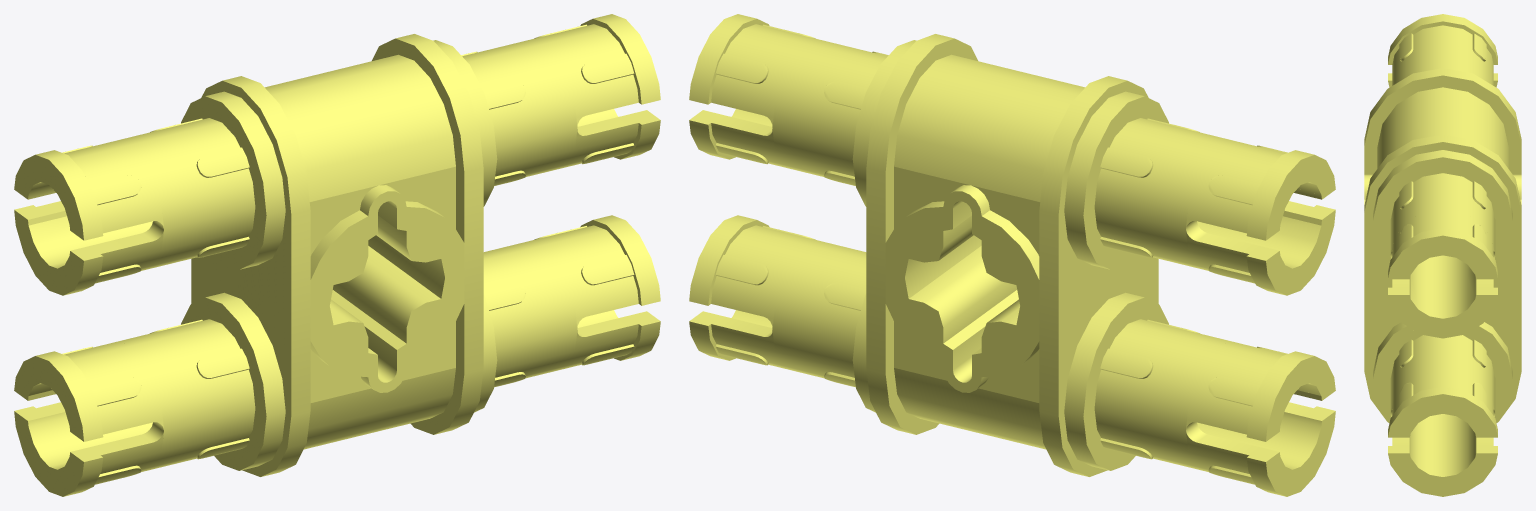
The picture shows the model from 3 angles, left to right: view 1: azimuth 30°, elevation 25°; view 2: azimuth 150°, elevation 25°; view 3: azimuth 270°, elevation 25°; orthographic projection. The views are drawn at different scales.
Visible parts, largest first — view 1: 32138.dat; view 2: 32138.dat; view 3: 32138.dat.
Part boxes in pixels (x1,y1,x2,y2): 32138.dat: [14, 14, 660, 496]; 32138.dat: [689, 14, 1335, 496]; 32138.dat: [1364, 14, 1521, 496].
Bounding box in the file's own units: 0.024 × 0.0152 × 0.0072.
